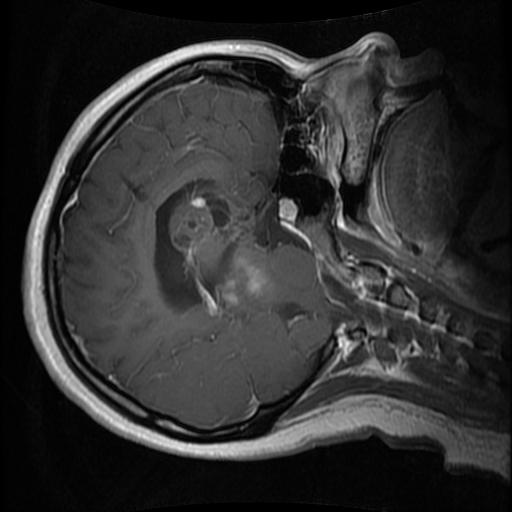glioma: (169, 200, 265, 317)
